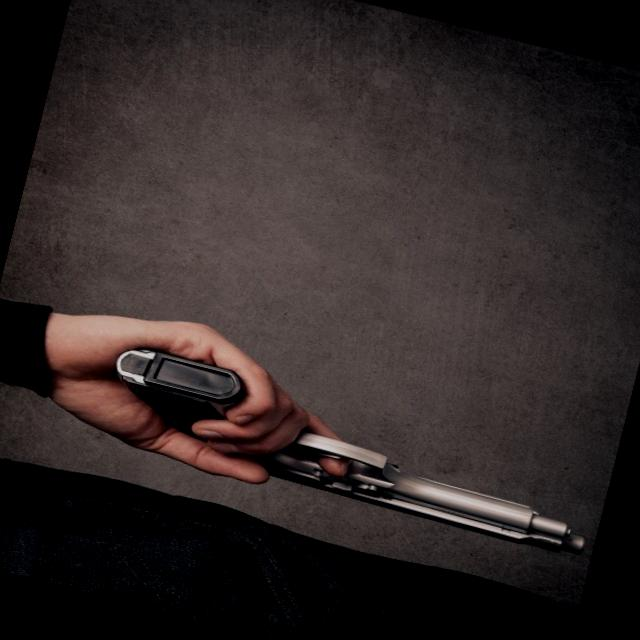handgun: (95, 342, 603, 560)
